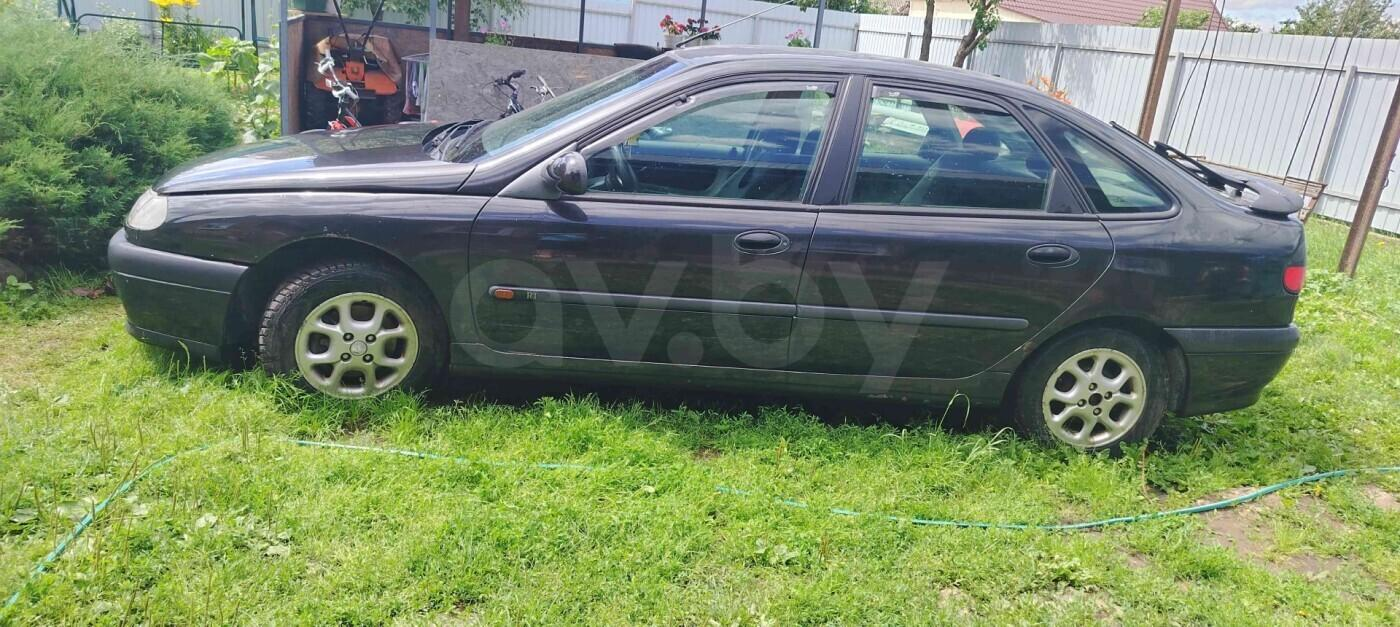Lahuna_1993-1999: (110, 43, 1302, 471)
